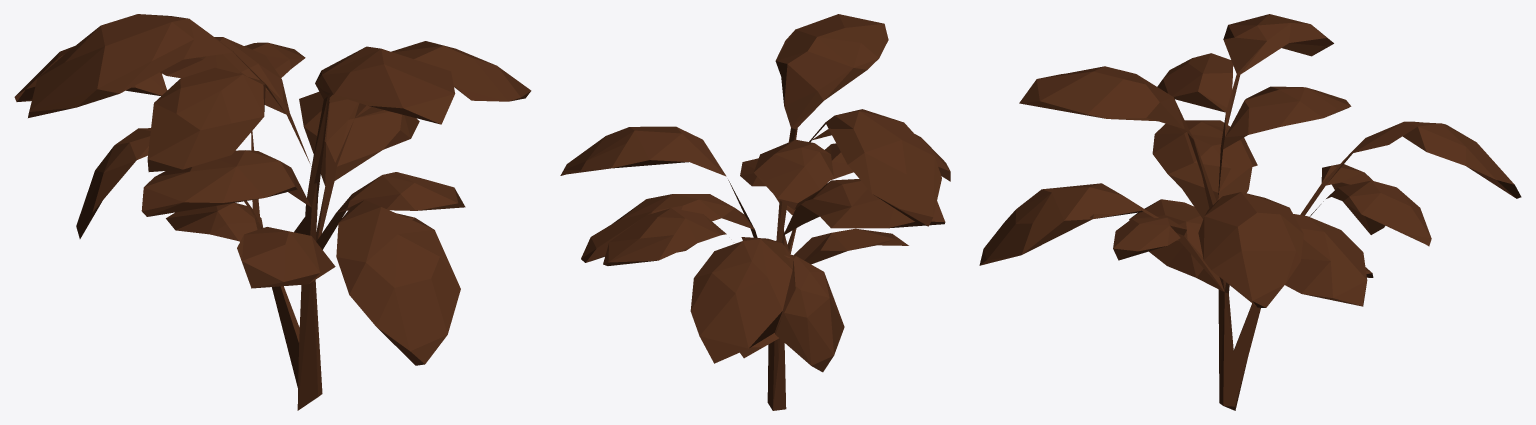
The model's file is ShrubLeavesLarge05.fbx.
3 renders of one model, left to right at view 1: azimuth 30°, elevation 25°; view 2: azimuth 150°, elevation 25°; view 3: azimuth 270°, elevation 25°, orthographic. The views are drawn at different scales.
Parts seen in each view (by area): view 1: ShrubLeavesLarge05; view 2: ShrubLeavesLarge05; view 3: ShrubLeavesLarge05.
Boxes of the visible parts, <box> form: ShrubLeavesLarge05: <box>14,14,531,410</box>; ShrubLeavesLarge05: <box>560,14,950,410</box>; ShrubLeavesLarge05: <box>979,14,1521,410</box>.
Size of the model in its own units: 162 by 132 by 191.
